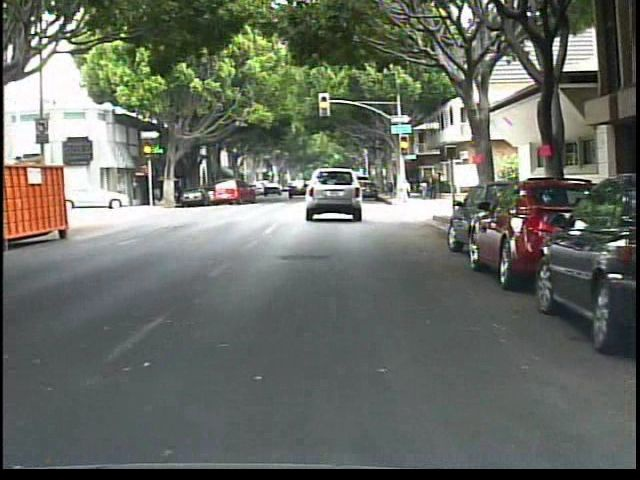person: (417, 172, 430, 201)
